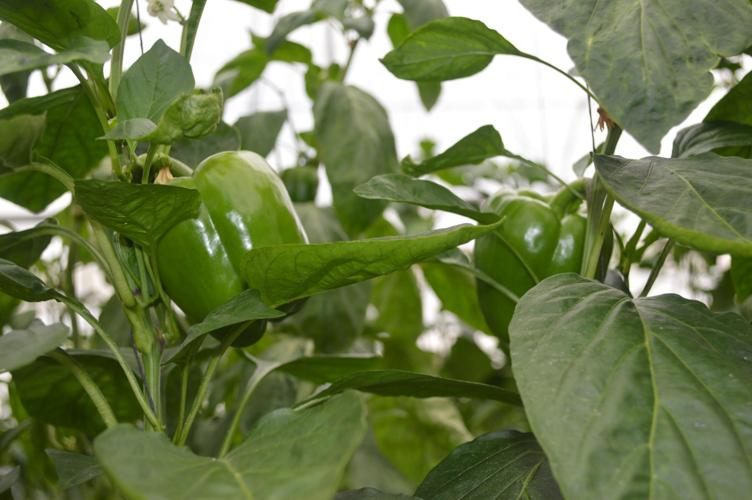BellPepper: (137, 146, 309, 344), (463, 193, 611, 333)
